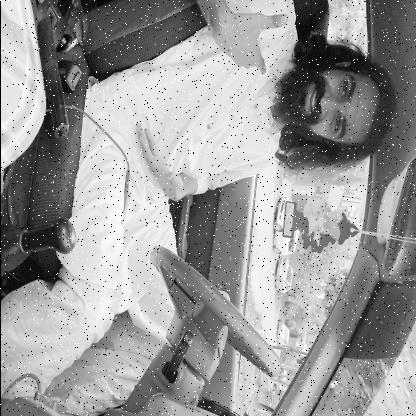no_seatbelt: (132, 44, 388, 192)
